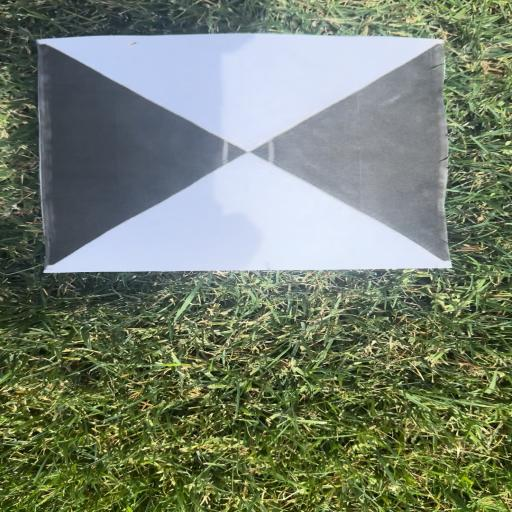target: (34, 39, 450, 268)
